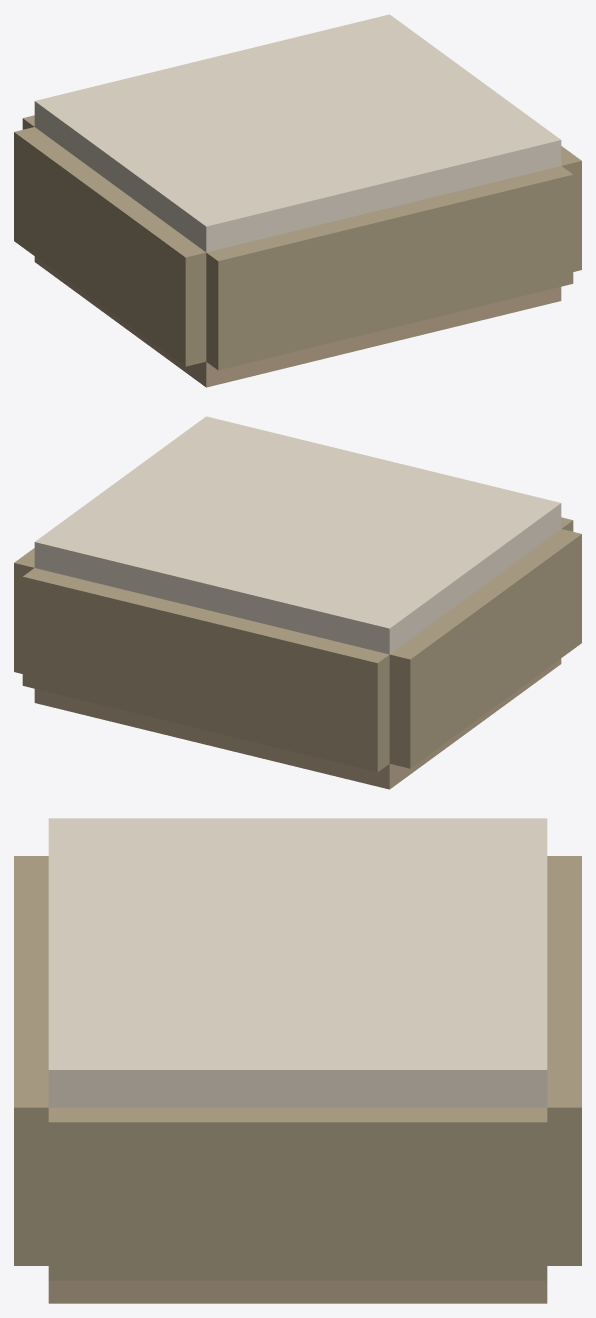
3 views of the same model, one above another, from view 1: azimuth 30°, elevation 25°; view 2: azimuth 150°, elevation 25°; view 3: azimuth 270°, elevation 25° (orthographic). The views are drawn at different scales.
Visible parts, largest first — view 1: Ceiling, Wall_01, Wall_04, Floor, Wall_02; view 2: Ceiling, Wall_03, Wall_04, Floor, Wall_02; view 3: Ceiling, Wall_02, Wall_01, Wall_03, Floor.
Boxes of the visible parts, bbox=[...] form: Ceiling: bbox=[34, 14, 561, 252]; Wall_01: bbox=[206, 166, 573, 370]; Wall_04: bbox=[14, 127, 206, 366]; Floor: bbox=[34, 256, 561, 387]; Wall_02: bbox=[561, 146, 581, 271]; Ceiling: bbox=[34, 416, 561, 654]; Wall_03: bbox=[22, 568, 389, 772]; Wall_04: bbox=[389, 529, 581, 768]; Floor: bbox=[34, 658, 561, 789]; Wall_02: bbox=[14, 548, 34, 673]; Ceiling: bbox=[48, 818, 547, 1107]; Wall_02: bbox=[48, 1107, 547, 1280]; Wall_01: bbox=[14, 856, 48, 1265]; Wall_03: bbox=[547, 856, 581, 1265]; Floor: bbox=[48, 1280, 547, 1303].
Bounding box in the file's own units: 4.8 × 1.86 × 4.1.
